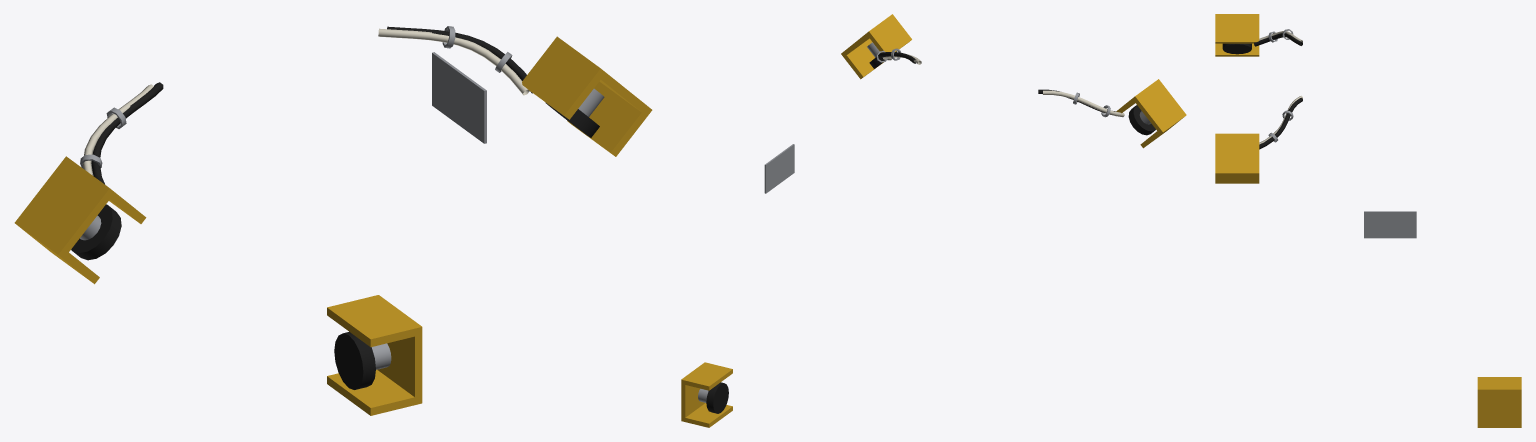
The model's file is kt1_sensor.obj.
The picture shows the model from 3 angles, left to right: view 1: azimuth 30°, elevation 25°; view 2: azimuth 150°, elevation 25°; view 3: azimuth 270°, elevation 25°; orthographic projection. The views are drawn at different scales.
Parts seen in each view (by area): view 1: kt1_sensor; view 2: kt1_sensor; view 3: kt1_sensor.
Boxes of the visible parts, x1,y1,x2,y2 form: kt1_sensor: [14, 26, 652, 415]; kt1_sensor: [681, 14, 1186, 427]; kt1_sensor: [1215, 14, 1521, 427].
Size of the model in its own units: 2.48 by 2.11 by 2.1.
